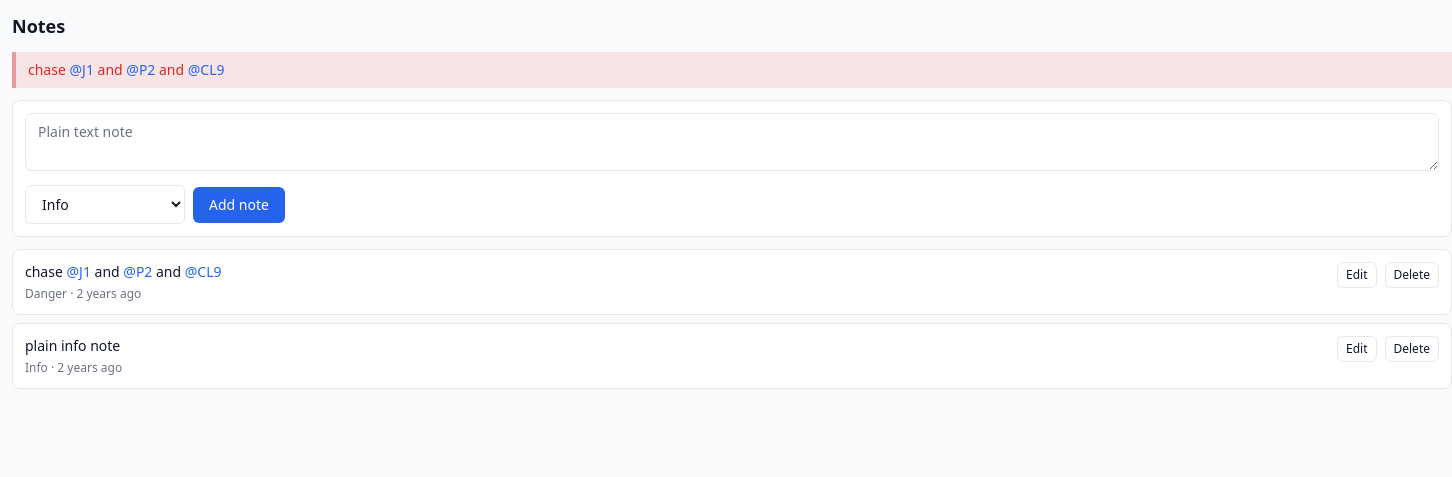
Test: NotesSection › edits a note body and severity inline
Click the button "Edit" in the row of "plain info note". click: (1357, 349)
box: [1337, 336, 1376, 362]
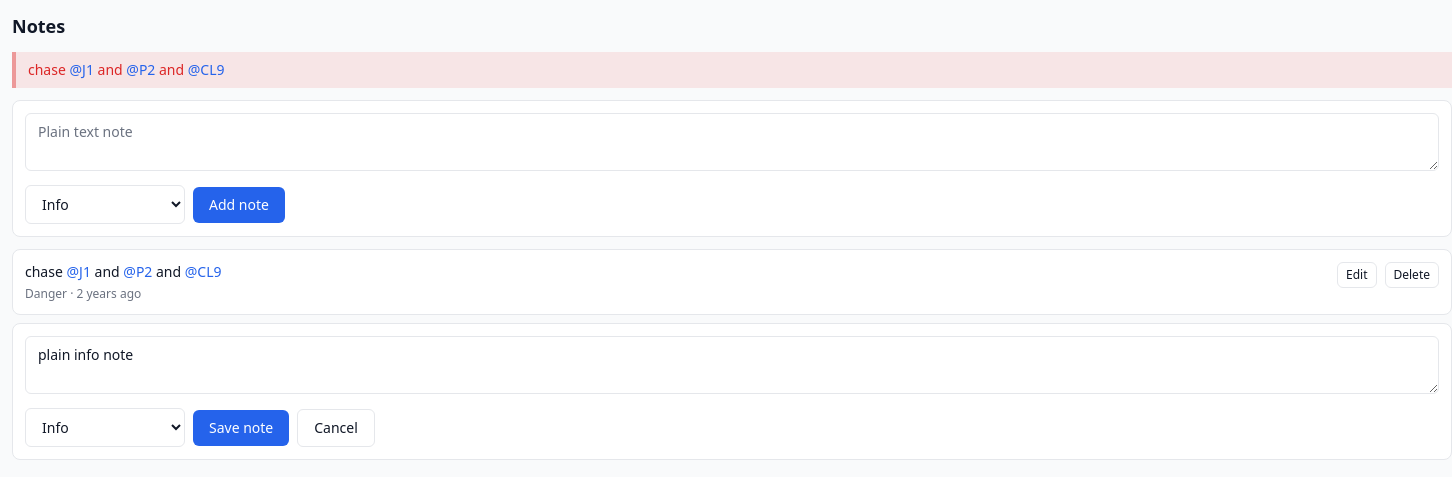
Replace the text in the text box named "Plain text note CN1" with "edited body". click: (732, 365)
box: [25, 336, 1439, 394]
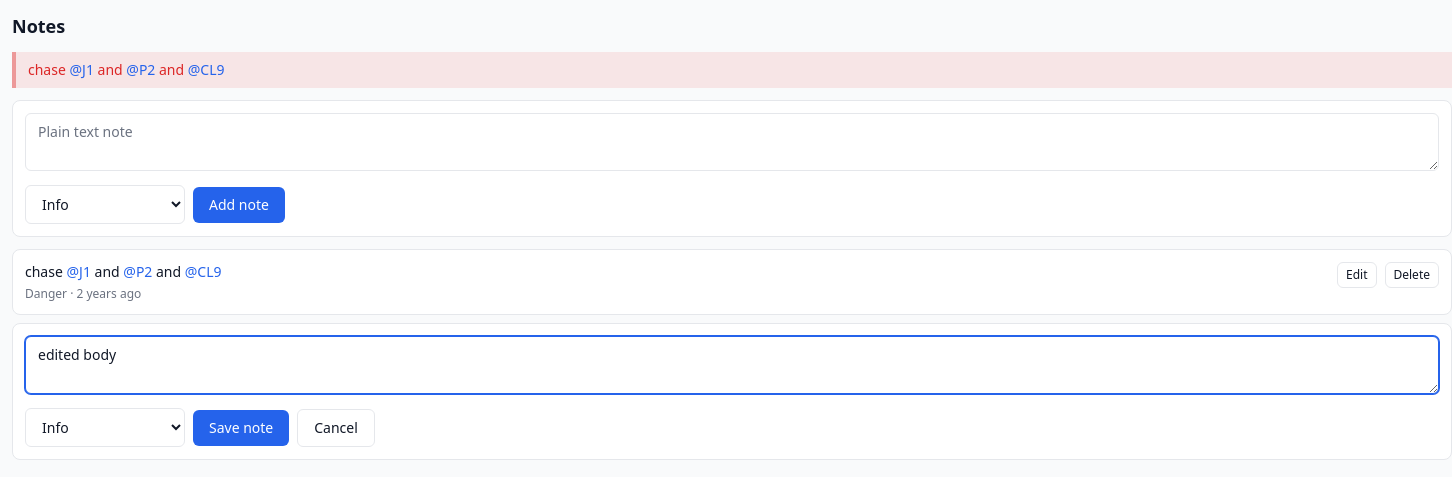
Select "Success" in the dropdown named "Severity CN1". click: (105, 428)
box: [25, 408, 185, 447]
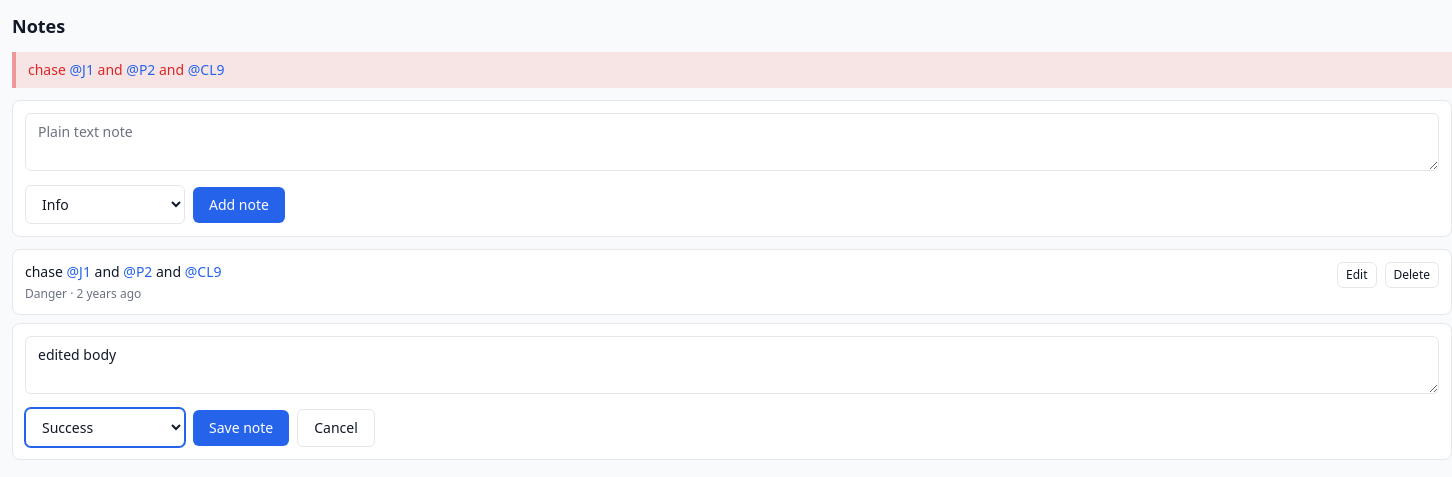
Click the button "Save note". click: (241, 428)
box: [193, 410, 289, 446]
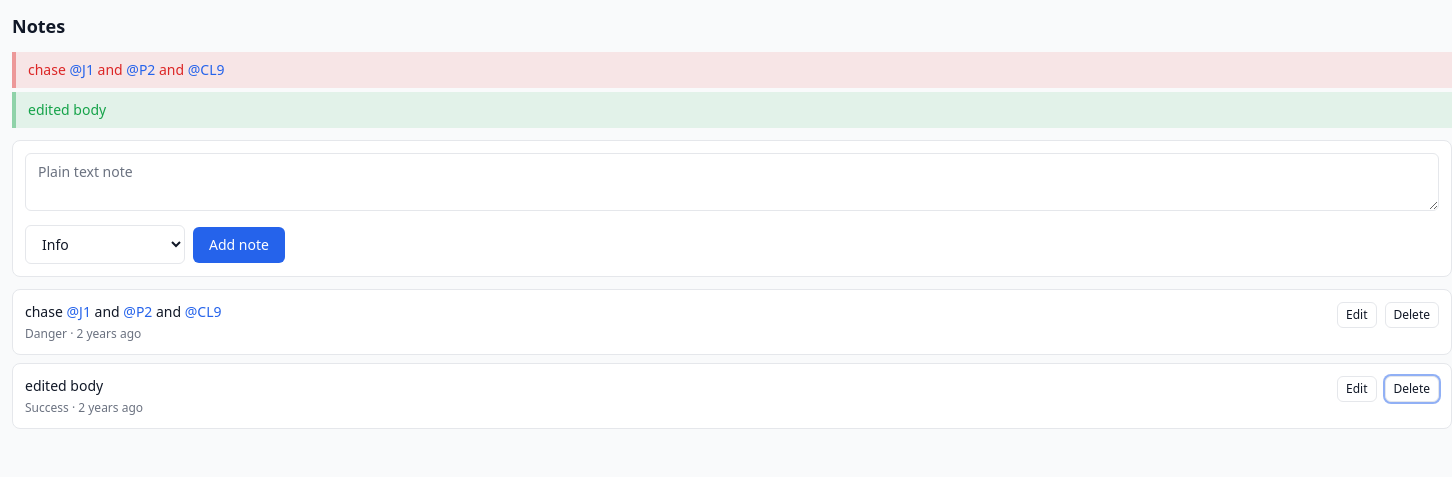
Check: the list item with test id "client-note-row-CN1" shows "edited body", box [25, 376, 103, 395]
